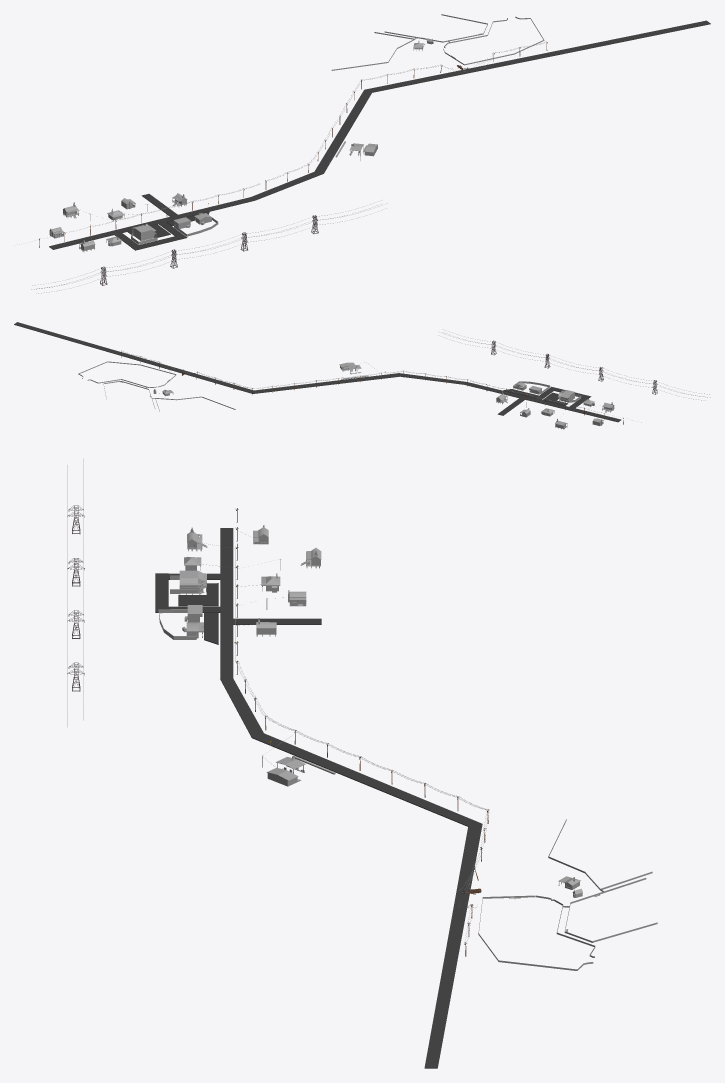
File: Starting_Area_V3.fbx
3 renders of one model, top to bottom at view 1: azimuth 30°, elevation 25°; view 2: azimuth 150°, elevation 25°; view 3: azimuth 270°, elevation 25°, orthographic. The views are drawn at different scales.
Visible parts, largest first — view 1: Main_Road; view 2: Main_Road; view 3: Main_Road.
Part boxes in pixels (x1,y1,x2,y2): Main_Road: [49, 20, 710, 249]; Main_Road: [14, 322, 621, 422]; Main_Road: [220, 528, 482, 1068].
Size of the model in its own units: 663 by 13.81 by 280.
